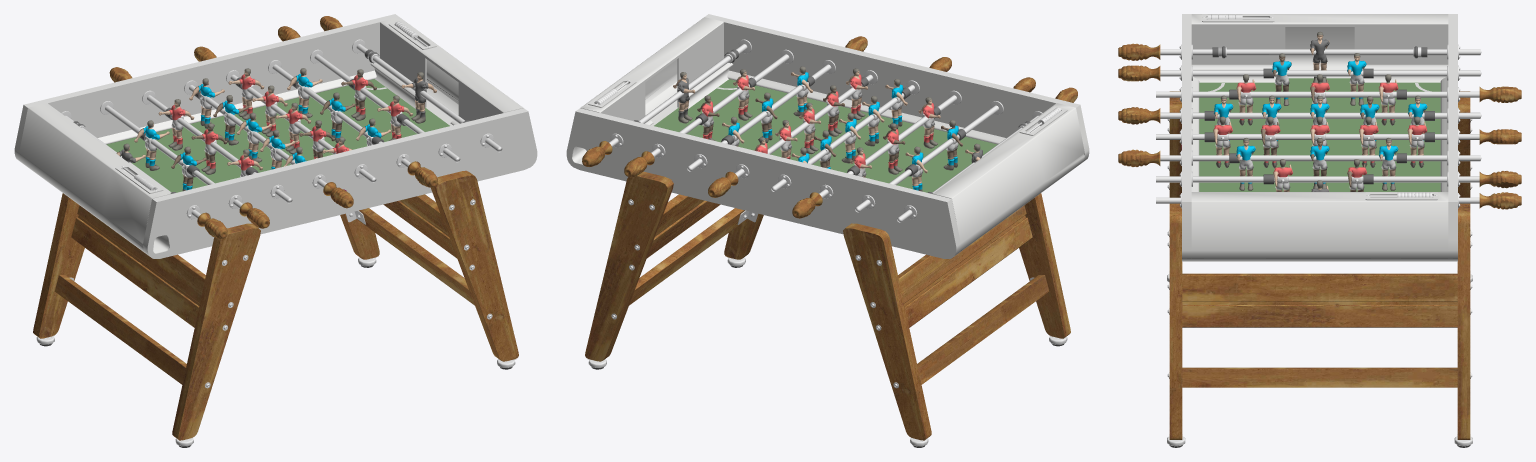
Rendered from multimaterial_stress.gltf.
The picture shows the model from 3 angles, left to right: view 1: azimuth 30°, elevation 25°; view 2: azimuth 150°, elevation 25°; view 3: azimuth 270°, elevation 25°; orthographic projection. The views are drawn at different scales.
Visible parts, largest first — view 1: Table_Props_White1Mesh, Frame_Prop_WoodMesh, Prop_GreenMesh, Props_Chrome_1Mesh, Characters_Skin_YellowMesh, Table_Props_White2Mesh, Characters_RedMesh, Characters_BlueMesh, Characters_BlackMesh, Characters_Skin_BrownMesh, Characters_White_1Mesh, Characters_White_2Mesh (+1 smaller); view 2: Table_Props_White1Mesh, Frame_Prop_WoodMesh, Prop_GreenMesh, Props_Chrome_1Mesh, Characters_Skin_YellowMesh, Table_Props_White2Mesh, Characters_BlackMesh, Characters_RedMesh, Characters_BlueMesh, Characters_Skin_BrownMesh, Props_Black_PlasticMesh, Characters_White_1Mesh (+1 smaller); view 3: Table_Props_White1Mesh, Frame_Prop_WoodMesh, Props_Chrome_1Mesh, Prop_GreenMesh, Table_Props_White2Mesh, Characters_Skin_YellowMesh, Characters_BlueMesh, Characters_RedMesh, Props_Black_PlasticMesh, Characters_BlackMesh, Characters_White_2Mesh, Characters_White_1Mesh (+2 smaller).
Boxes of the visible parts, <box> form: Table_Props_White1Mesh: <box>14,14,537,258</box>; Frame_Prop_WoodMesh: <box>33,16,518,440</box>; Prop_GreenMesh: <box>106,79,449,192</box>; Props_Chrome_1Mesh: <box>36,22,516,446</box>; Characters_Skin_YellowMesh: <box>116,71,436,170</box>; Table_Props_White2Mesh: <box>98,63,458,144</box>; Characters_RedMesh: <box>169,74,404,170</box>; Characters_BlueMesh: <box>143,74,381,190</box>; Characters_BlackMesh: <box>123,68,425,191</box>; Characters_Skin_BrownMesh: <box>171,71,376,186</box>; Characters_White_1Mesh: <box>144,83,373,177</box>; Characters_White_2Mesh: <box>171,84,402,176</box>; Table_Props_White1Mesh: <box>566,14,1089,258</box>; Frame_Prop_WoodMesh: <box>582,36,1077,440</box>; Prop_GreenMesh: <box>654,79,997,192</box>; Props_Chrome_1Mesh: <box>587,39,1067,446</box>; Characters_Skin_YellowMesh: <box>673,70,980,186</box>; Table_Props_White2Mesh: <box>645,63,1005,144</box>; Characters_BlackMesh: <box>678,66,980,191</box>; Characters_RedMesh: <box>701,74,934,168</box>; Characters_BlueMesh: <box>728,72,958,190</box>; Characters_Skin_BrownMesh: <box>697,87,962,168</box>; Props_Black_PlasticMesh: <box>591,49,1064,447</box>; Characters_White_1Mesh: <box>731,82,958,177</box>; Table_Props_White1Mesh: <box>1182,14,1457,261</box>; Frame_Prop_WoodMesh: <box>1118,43,1521,439</box>; Props_Chrome_1Mesh: <box>1156,17,1481,446</box>; Prop_GreenMesh: <box>1199,78,1440,191</box>; Table_Props_White2Mesh: <box>1191,64,1448,191</box>; Characters_Skin_YellowMesh: <box>1213,35,1427,191</box>; Characters_BlueMesh: <box>1213,60,1427,183</box>; Characters_RedMesh: <box>1213,82,1427,177</box>; Props_Black_PlasticMesh: <box>1169,46,1470,447</box>; Characters_BlackMesh: <box>1216,31,1424,190</box>; Characters_White_2Mesh: <box>1215,91,1424,189</box>; Characters_White_1Mesh: <box>1216,70,1424,169</box>.
Bounding box in the file's own units: 1.51 × 0.9302 × 1.31.
17 materials, 1 textured.
